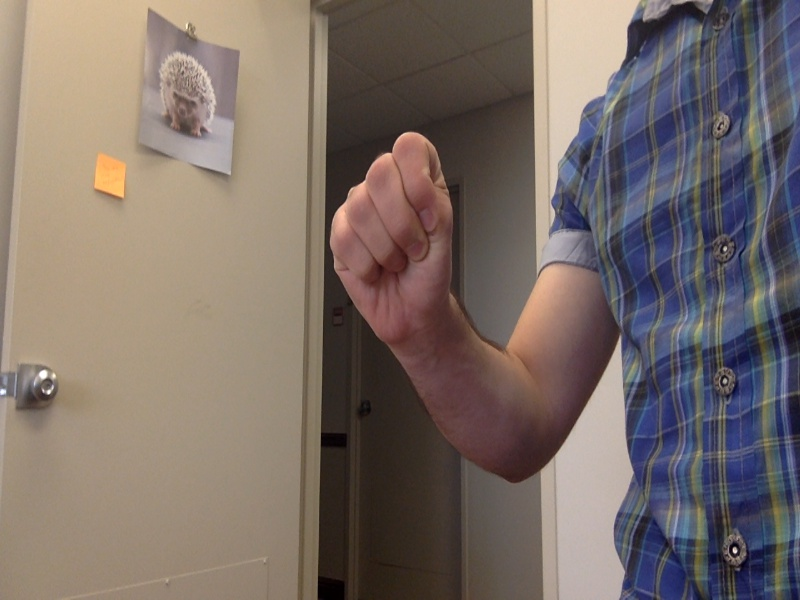0-hand: (330, 128, 457, 344)
